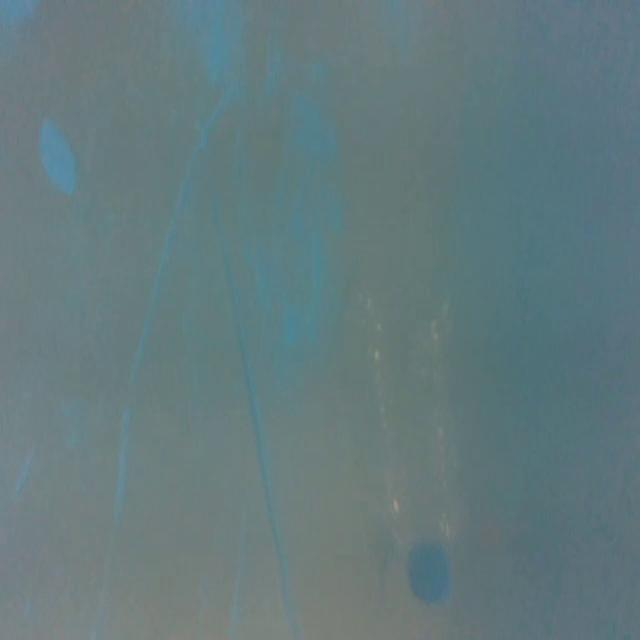plastic bottle: (351, 268, 463, 606)
